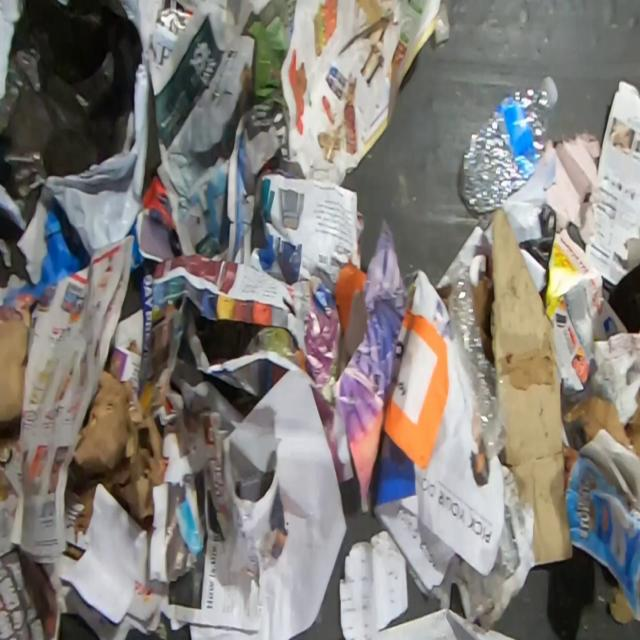cardboard: (489, 207, 576, 569), (71, 368, 169, 534), (584, 80, 640, 287), (0, 305, 33, 423)
rigid_plastic: (457, 74, 560, 215)
soft_plastic: (447, 269, 513, 460)
